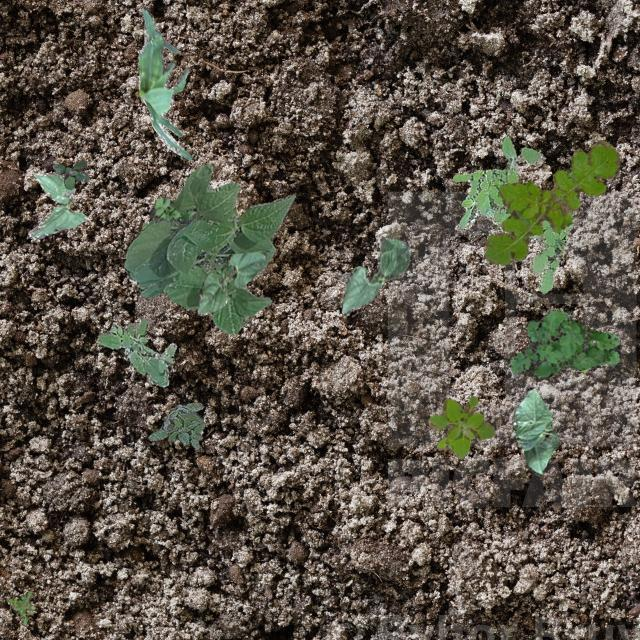crop: (122, 162, 294, 334), (137, 5, 190, 158), (340, 236, 410, 314), (512, 384, 558, 476), (197, 252, 264, 314), (28, 172, 86, 238)
weed: (484, 138, 618, 264), (452, 168, 572, 292), (508, 308, 620, 378), (96, 316, 176, 386), (428, 396, 492, 458), (148, 402, 204, 448), (500, 136, 544, 182), (148, 196, 194, 220), (52, 160, 88, 188), (6, 590, 34, 624)
